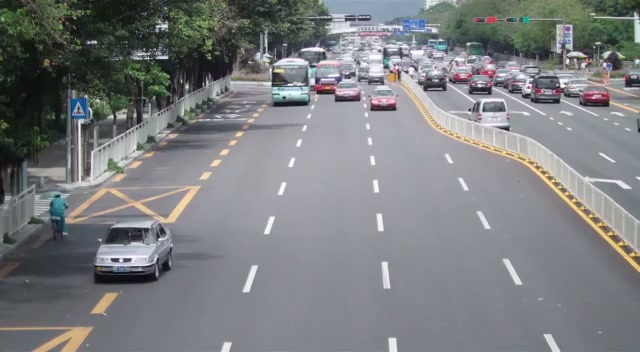bus: (271, 58, 310, 106), (314, 60, 342, 93), (299, 47, 327, 74), (299, 47, 327, 66)
car: (93, 218, 175, 283), (468, 97, 511, 130), (530, 75, 563, 104), (370, 86, 398, 110), (421, 70, 448, 92), (579, 87, 610, 106), (334, 80, 362, 101), (505, 72, 530, 94), (469, 76, 493, 95), (450, 67, 473, 83), (565, 81, 589, 96), (624, 72, 640, 87)
pedestrian: (48, 192, 68, 237)
